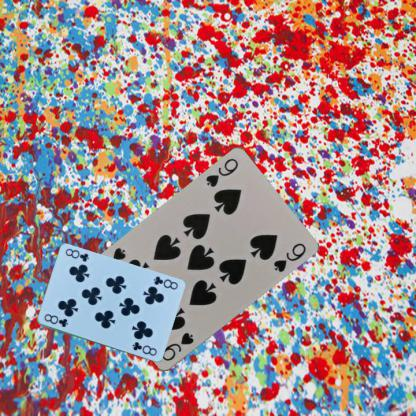8c: (150, 274, 179, 291), (42, 311, 69, 329)
9s: (158, 330, 196, 363), (203, 156, 240, 189)
